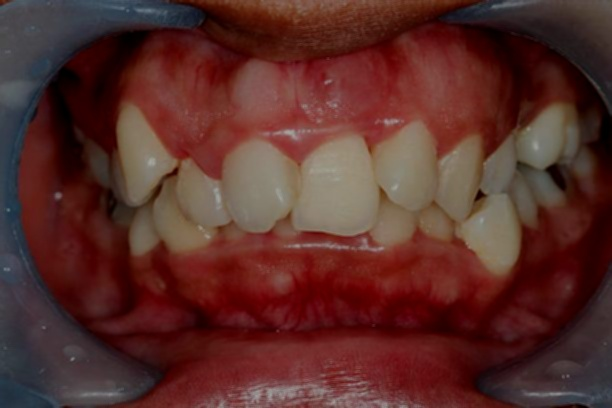Gingivitis: (207, 265, 487, 329), (368, 46, 412, 90), (203, 55, 243, 90)
